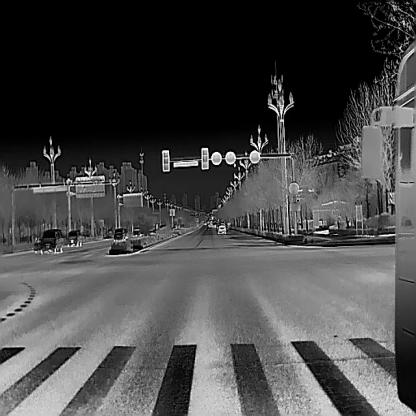bus: (360, 38, 416, 412)
car: (40, 228, 63, 252), (66, 228, 82, 246), (112, 227, 127, 241), (132, 225, 144, 236), (217, 224, 226, 234)
